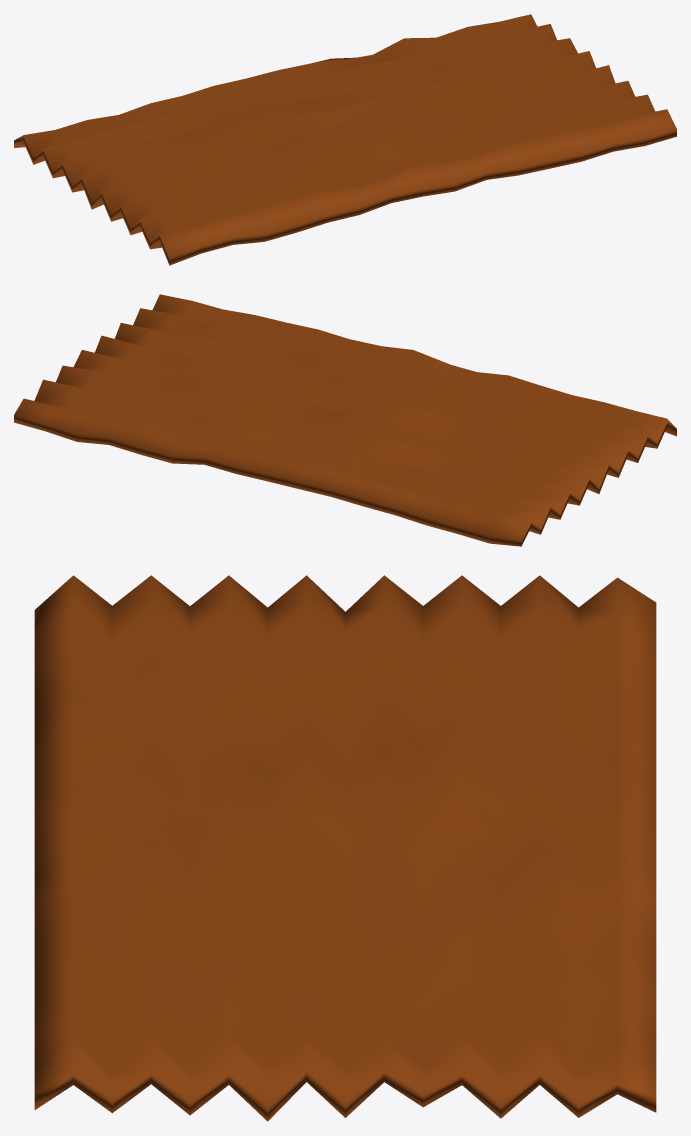
Rendered from glattFloor.fbx.
The picture shows the model from 3 angles, top to bottom: view 1: azimuth 30°, elevation 25°; view 2: azimuth 150°, elevation 25°; view 3: azimuth 270°, elevation 25°; orthographic projection. The views are drawn at different scales.
Visible parts, largest first — view 1: Plane; view 2: Plane; view 3: Plane.
Part boxes in pixels (x1,y1,x2,y2): Plane: (14,14,676,265); Plane: (14,294,676,546); Plane: (34,575,656,1121).
Bounding box in the file's own units: 480 × 33.98 × 255.
